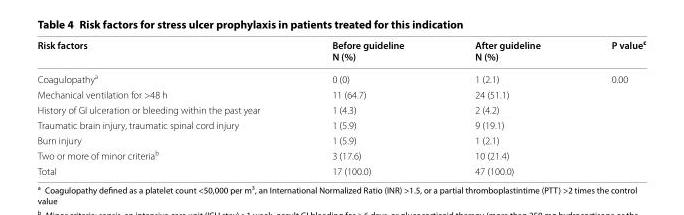table: (36, 36, 645, 176)
table column: (36, 36, 295, 176), (295, 36, 438, 176), (438, 36, 575, 176), (575, 36, 645, 176)
table column header: (36, 36, 645, 66)
table row: (36, 36, 645, 66), (36, 66, 645, 86), (36, 101, 645, 117), (36, 147, 645, 163), (36, 86, 645, 101), (36, 117, 645, 132), (36, 132, 645, 147), (36, 163, 645, 176)
